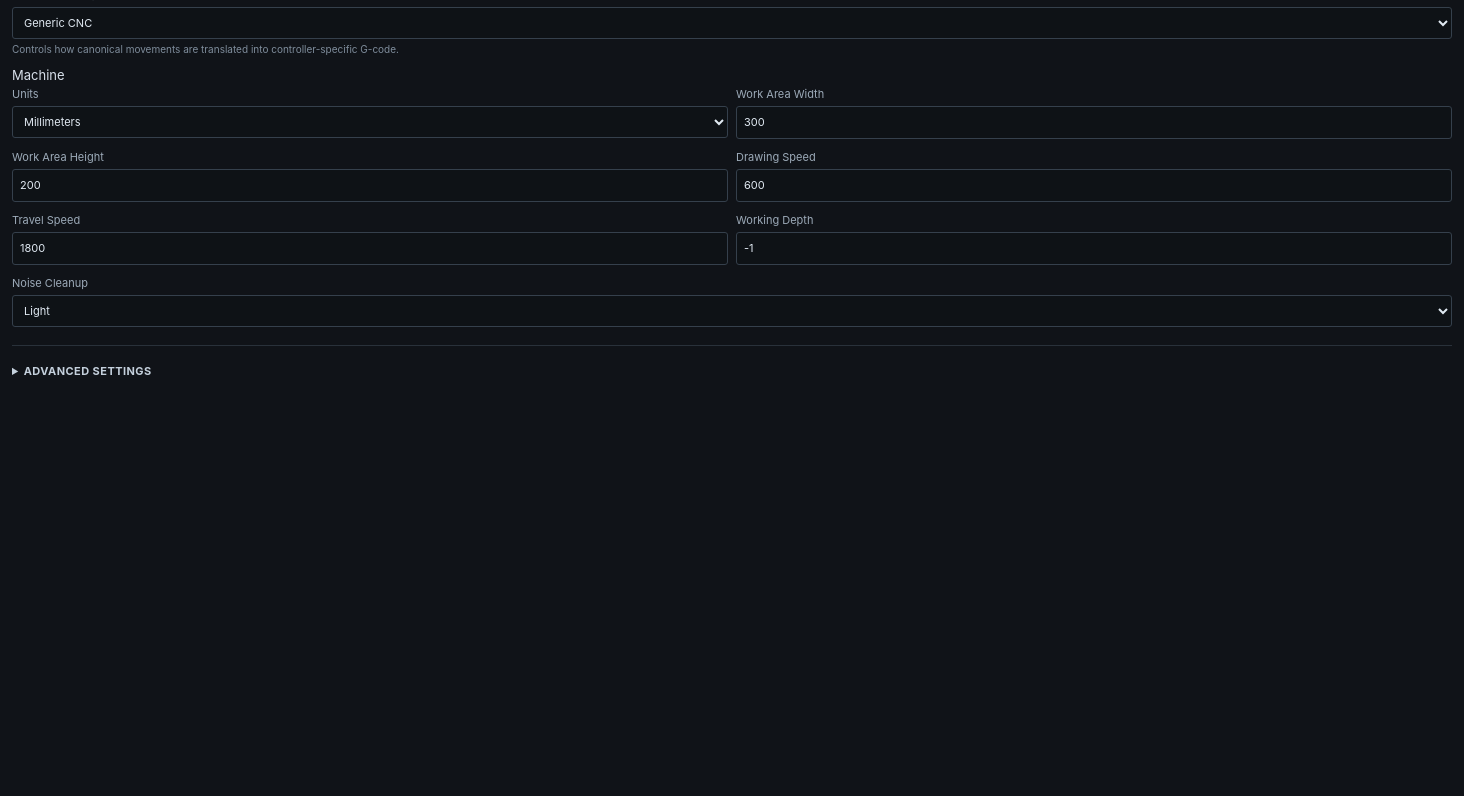
Test case: capability-driven machine controls › shows safe-Z controls for CNC and removes them after selecting a pen processor
This screenshot has width=1464, height=796.
Click the heading "Advanced settings". click: (88, 371)
box: [24,364,152,378]
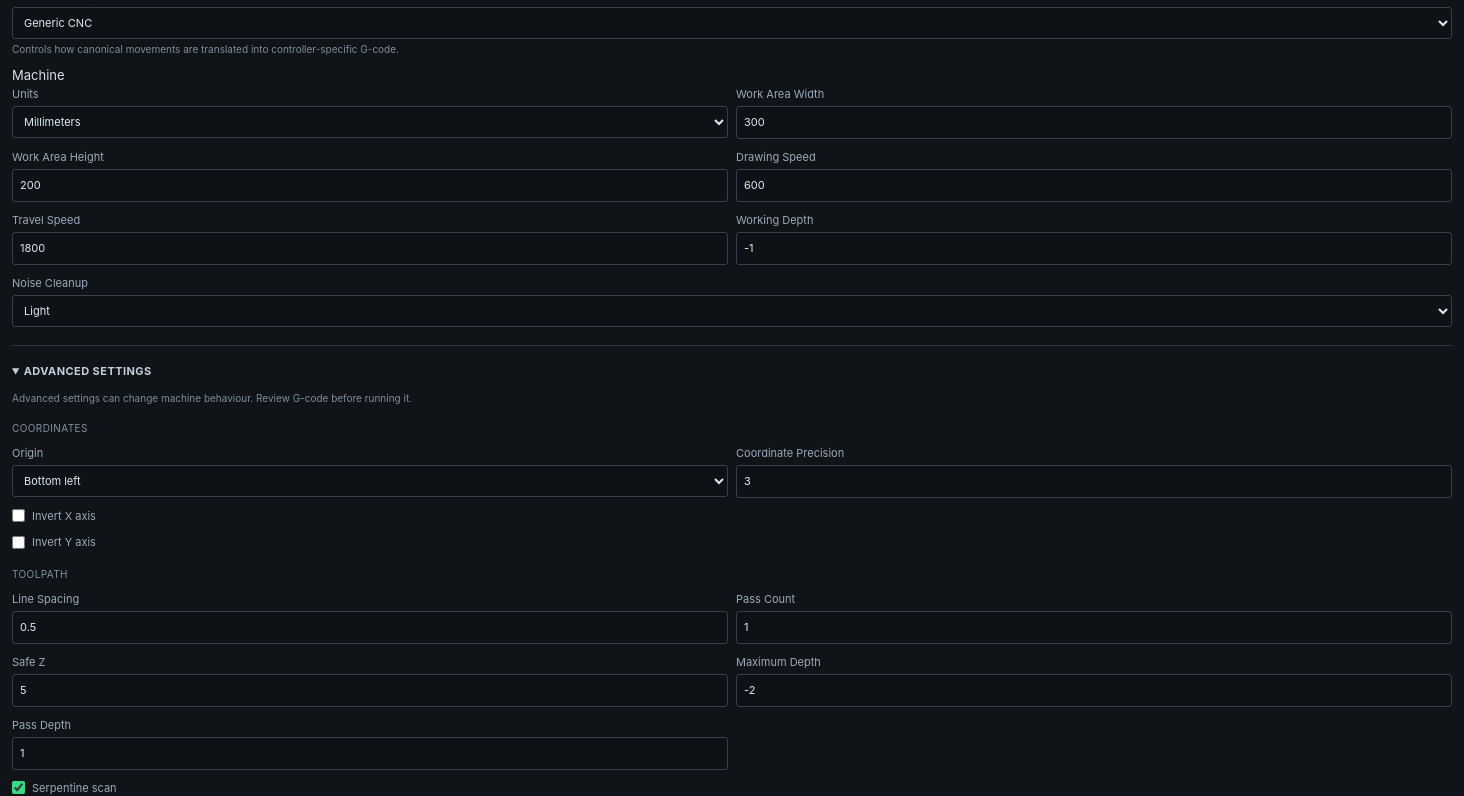
Expected: the number field labelled "Working depth" is shown, [736,232,1452,264]
Result: the number field labelled "Safe Z" is shown at [12,674,728,706]
Select "GRBL Pen Plotter" in the dropdown labelled "Controller / output". click: (732, 22)
box: [12,6,1452,38]
(page scrolled)
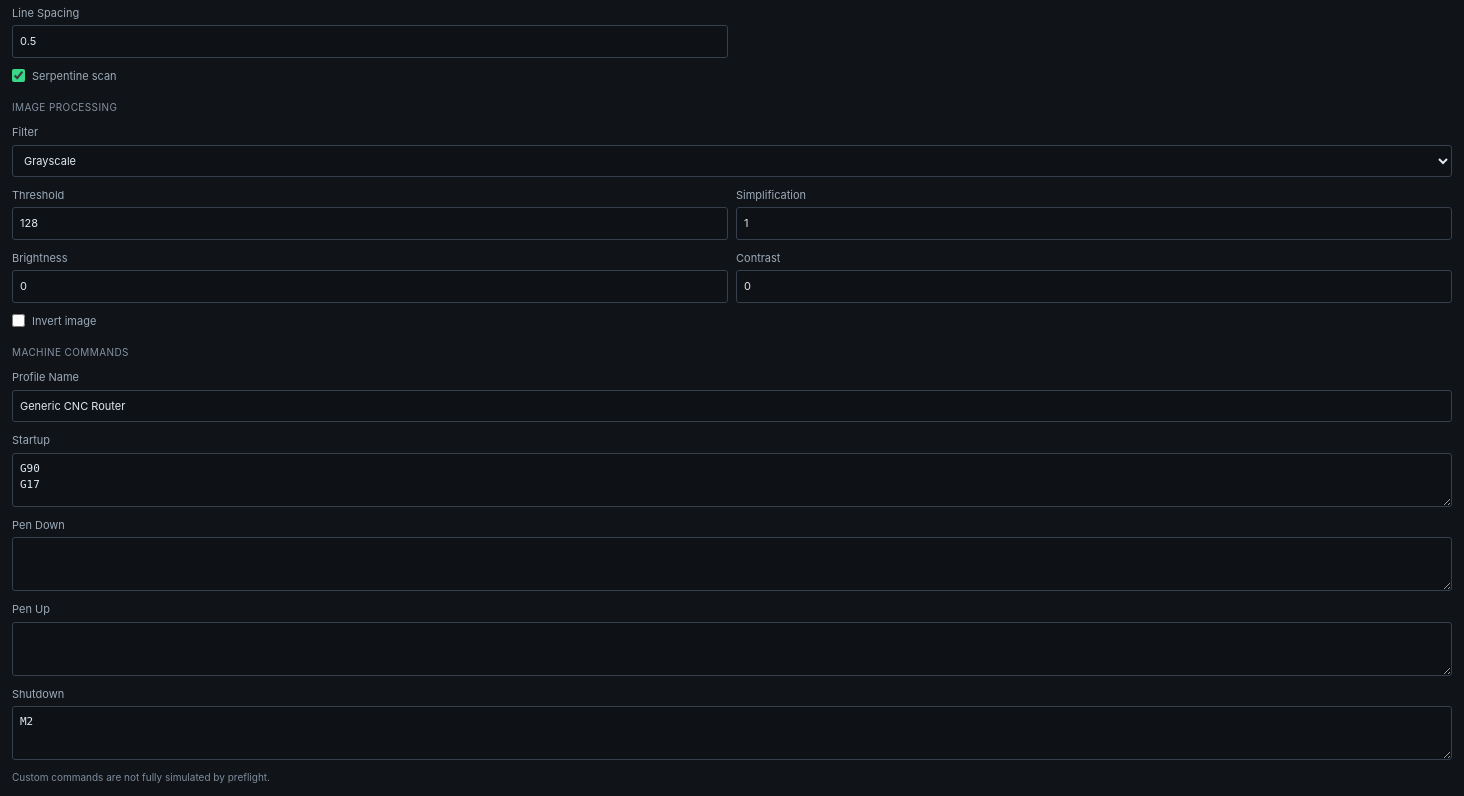
Result: the text box labelled "Pen down" is shown at [12,537,1452,591]
Result: the label labelled "Safe Z" is gone
Result: the label labelled "Working depth" is gone
